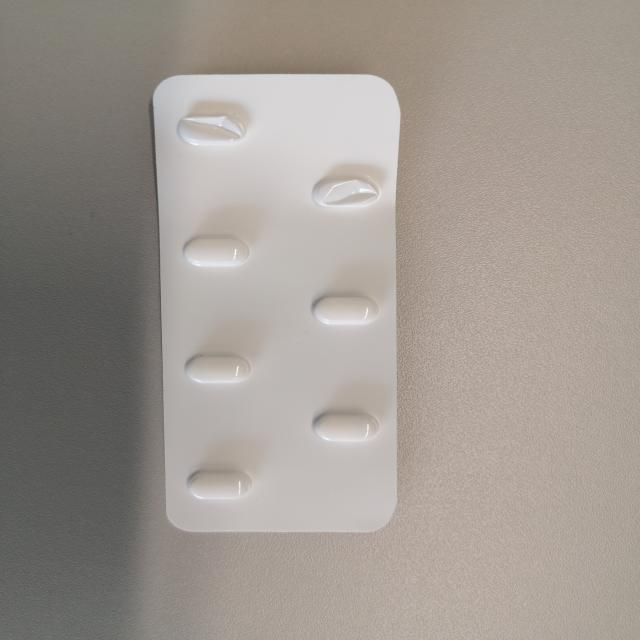Empty: (301, 163, 396, 216), (168, 103, 264, 150)
Pill: (299, 284, 387, 340), (299, 397, 387, 450), (172, 229, 260, 277), (176, 463, 264, 508), (178, 350, 256, 390)
